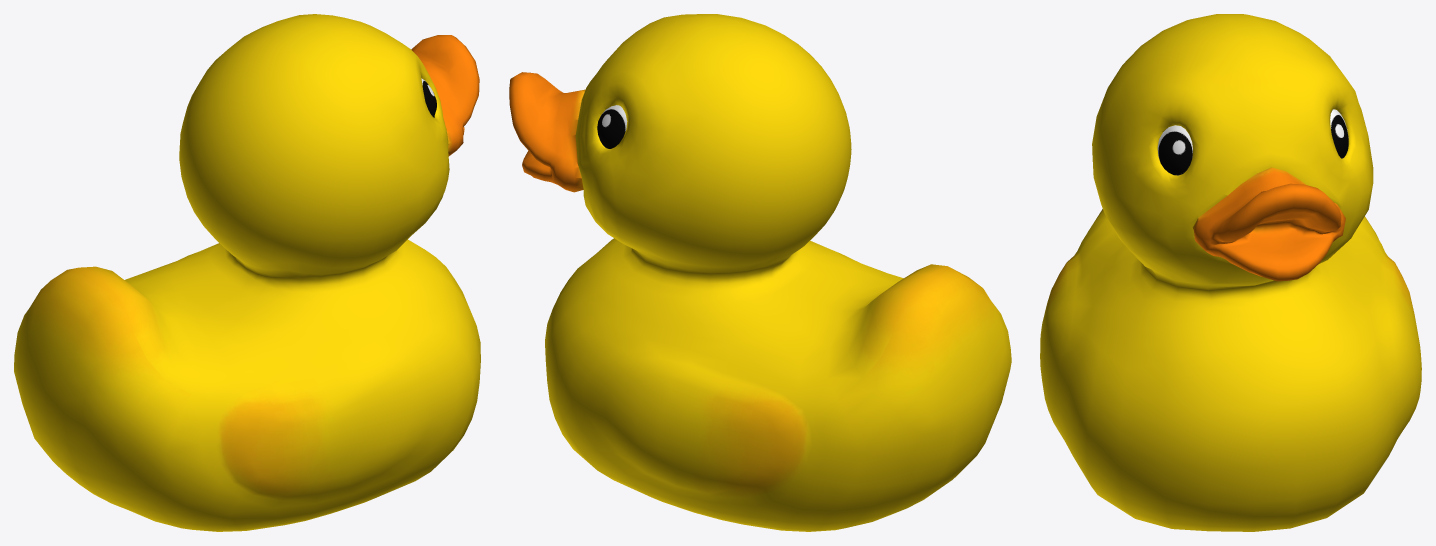
Rendered from Duck.opt.glb.
3 views of the same model, side by side, from view 1: azimuth 30°, elevation 25°; view 2: azimuth 150°, elevation 25°; view 3: azimuth 270°, elevation 25° (orthographic). The views are drawn at different scales.
Parts seen in each view (by area): view 1: LOD3spShape; view 2: LOD3spShape; view 3: LOD3spShape.
Part boxes in pixels (<box>): LOD3spShape: <box>14,14,480,531</box>; LOD3spShape: <box>509,14,1011,531</box>; LOD3spShape: <box>1040,14,1421,531</box>.
Size of the model in its own units: 1.65 by 1.54 by 1.15.
Materials: 1 (1 with a texture image).
